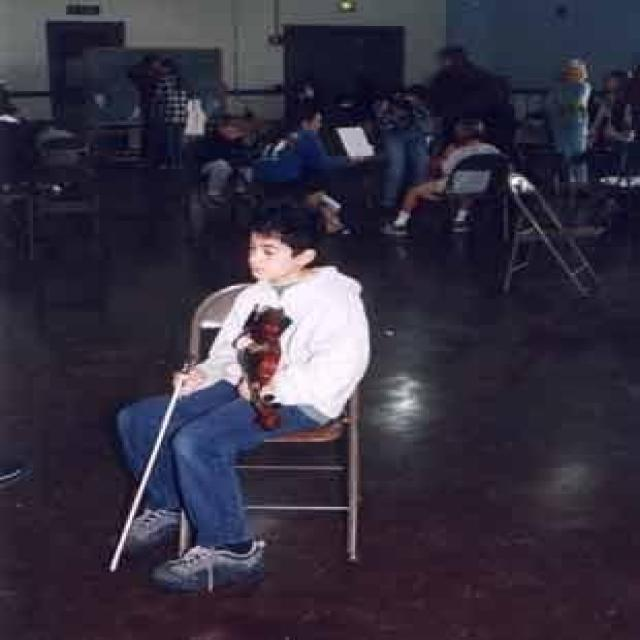violin: (236, 300, 301, 437)
